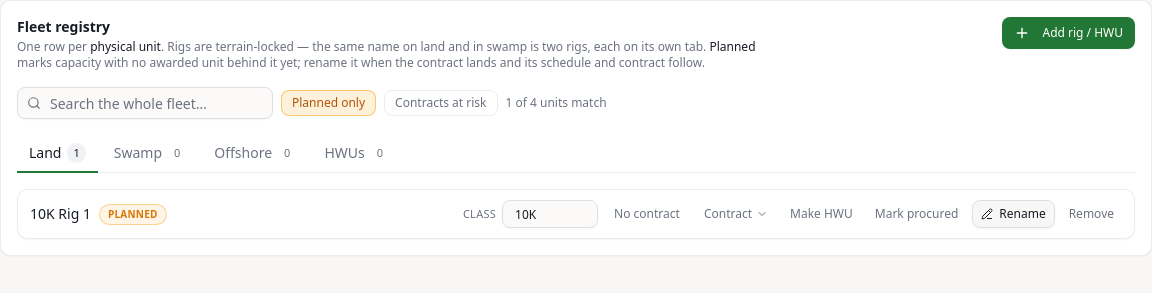
Test: ResourceRegistryPanel › initialTbdOnly (dashboard drill-through) lands filtered on a planned tab
This screenshot has width=1152, height=293.
Expected: the text "10K Rig 1" is shown, [30,204,91,224]
Expected: the text "1 of 4 units match" is shown, [506,95,607,111]
Click the button "Swamp 0": (150,154) [102,135,198,173]
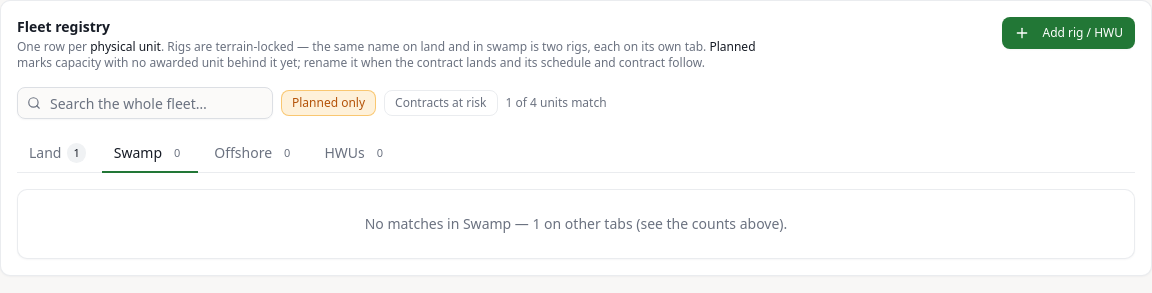
Now the text "10K Rig 1" is gone
